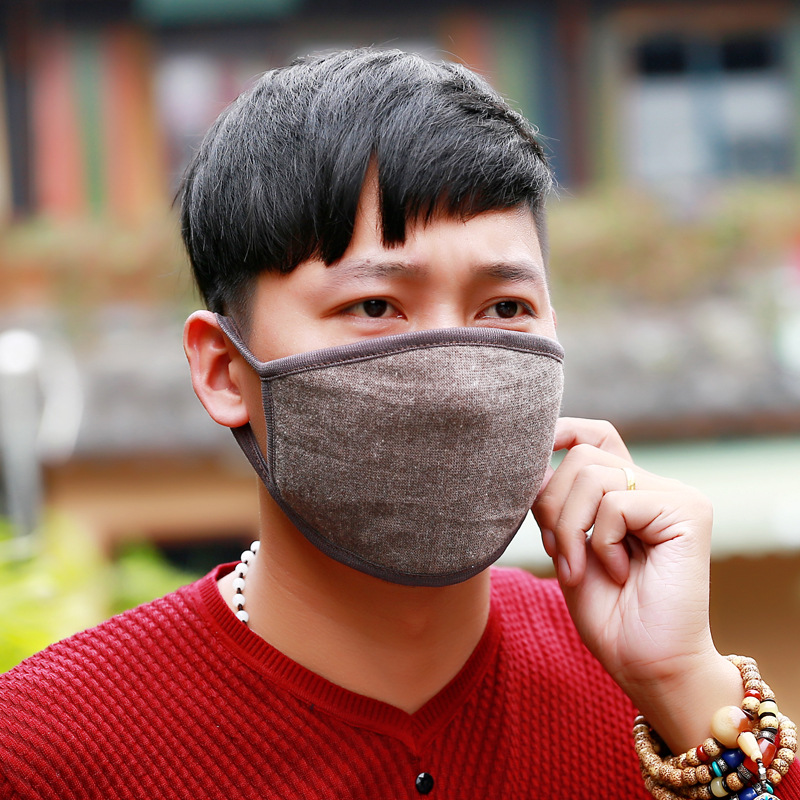face_mask: (252, 158, 556, 557)
